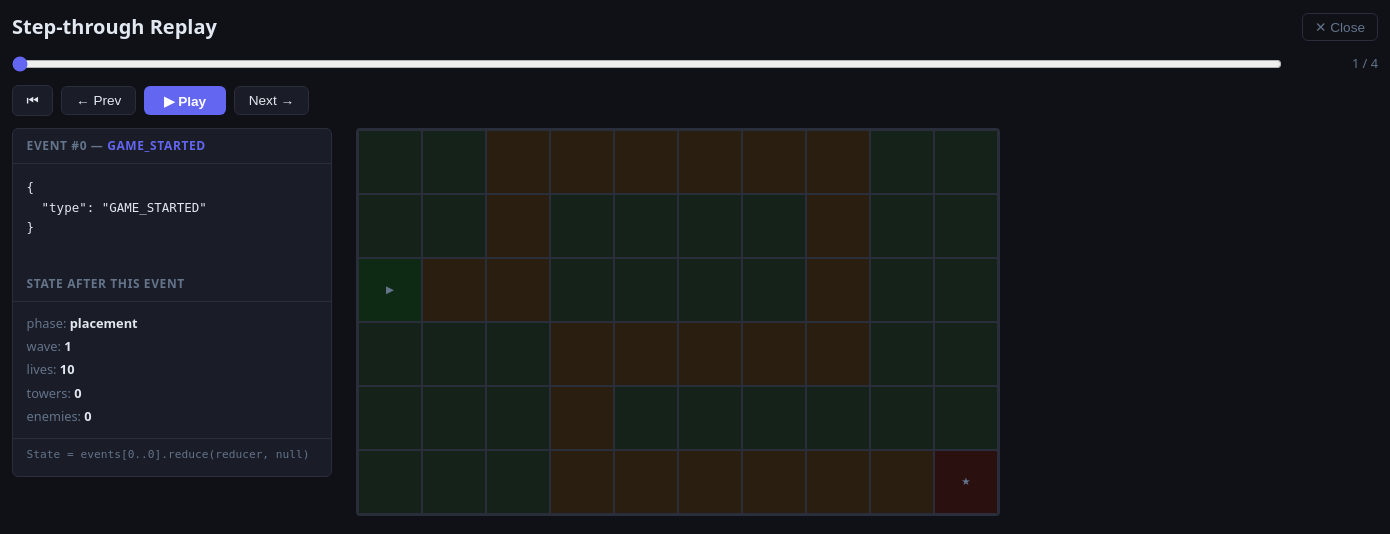
Scenario: ReplayViewer › updates the index when the scrubber is changed
Set the slider to "3" at (1274, 64), box [12,56,1282,72]
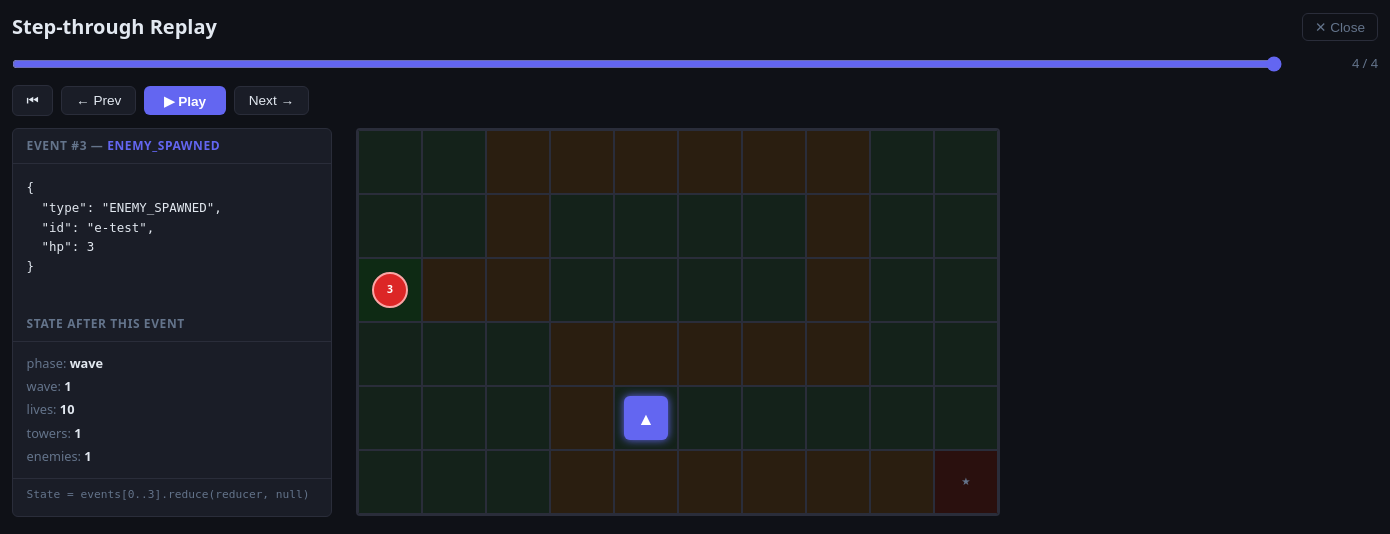
Check: the text "Event #3 — ENEMY_SPAWNED" is shown, box [13,129,331,164]
